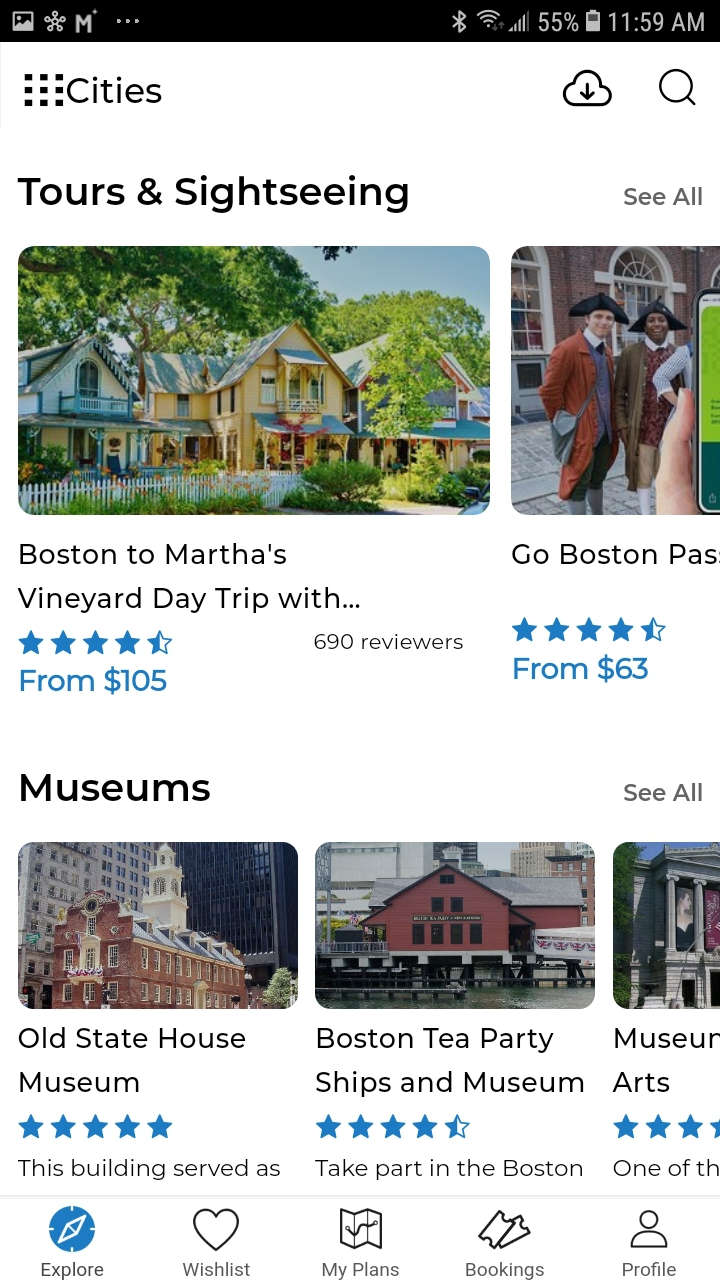Icon: (19, 630, 174, 656), (317, 1114, 471, 1139), (512, 617, 666, 642), (20, 1114, 173, 1139), (613, 1113, 720, 1139), (478, 1210, 531, 1250), (50, 1206, 96, 1252), (193, 1208, 240, 1251), (562, 70, 613, 108), (340, 1208, 383, 1249), (631, 1210, 668, 1248), (658, 69, 696, 106), (25, 75, 65, 108)
Image: (18, 246, 490, 515), (511, 246, 720, 515), (315, 842, 595, 1009), (19, 842, 299, 1009), (613, 843, 720, 1010)
Text: (18, 543, 360, 614), (316, 1027, 584, 1098), (18, 175, 409, 214), (20, 1026, 246, 1093), (612, 1027, 720, 1093), (18, 1158, 280, 1180), (316, 1159, 583, 1180), (21, 773, 211, 802), (512, 543, 717, 565), (21, 666, 168, 696), (514, 654, 648, 683), (67, 77, 162, 104), (315, 635, 463, 650), (614, 1158, 720, 1176), (624, 784, 703, 803), (624, 188, 703, 207), (322, 1261, 400, 1280), (466, 1261, 544, 1280), (42, 1261, 104, 1280), (183, 1261, 251, 1276), (622, 1262, 677, 1277)
UpperTaskBar: (1, 1, 720, 43)
